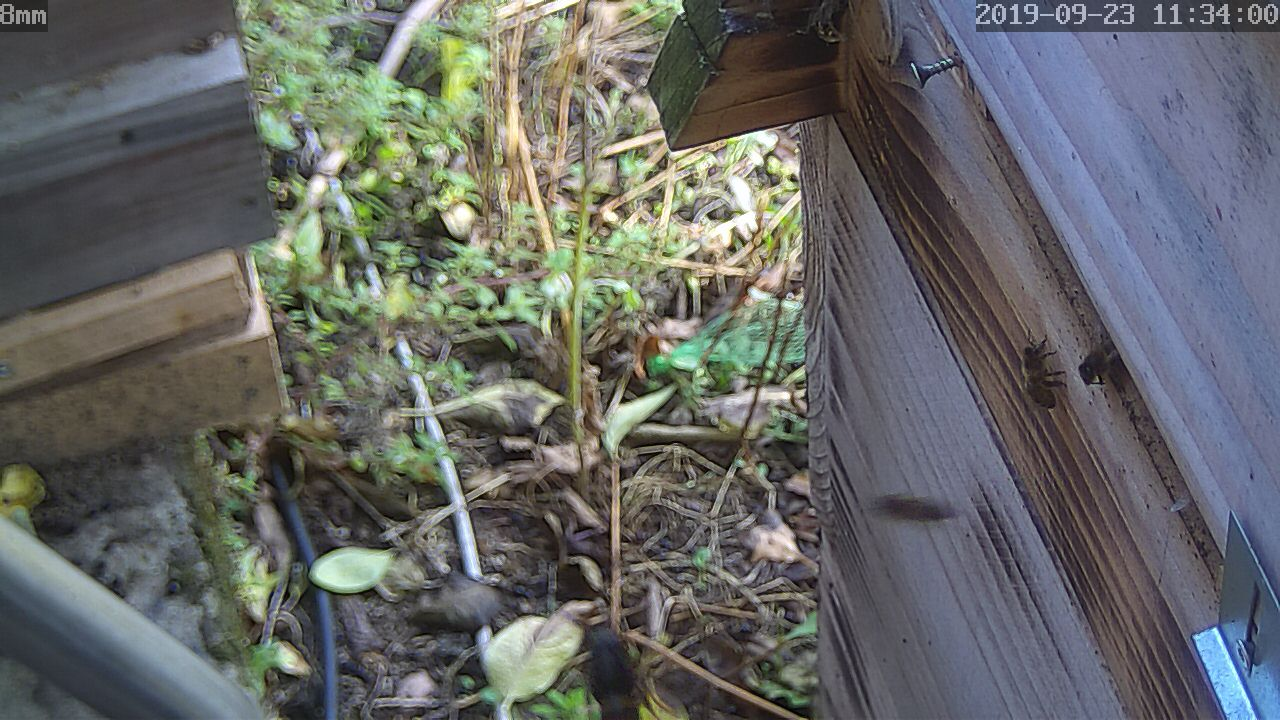bee: (1006, 327, 1060, 395)
hornet: (576, 608, 678, 720)
